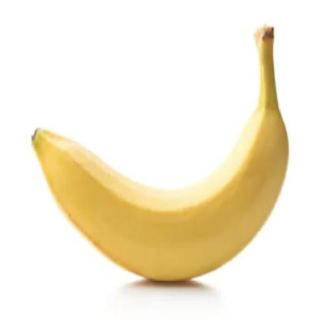banana: (30, 100, 291, 284)
